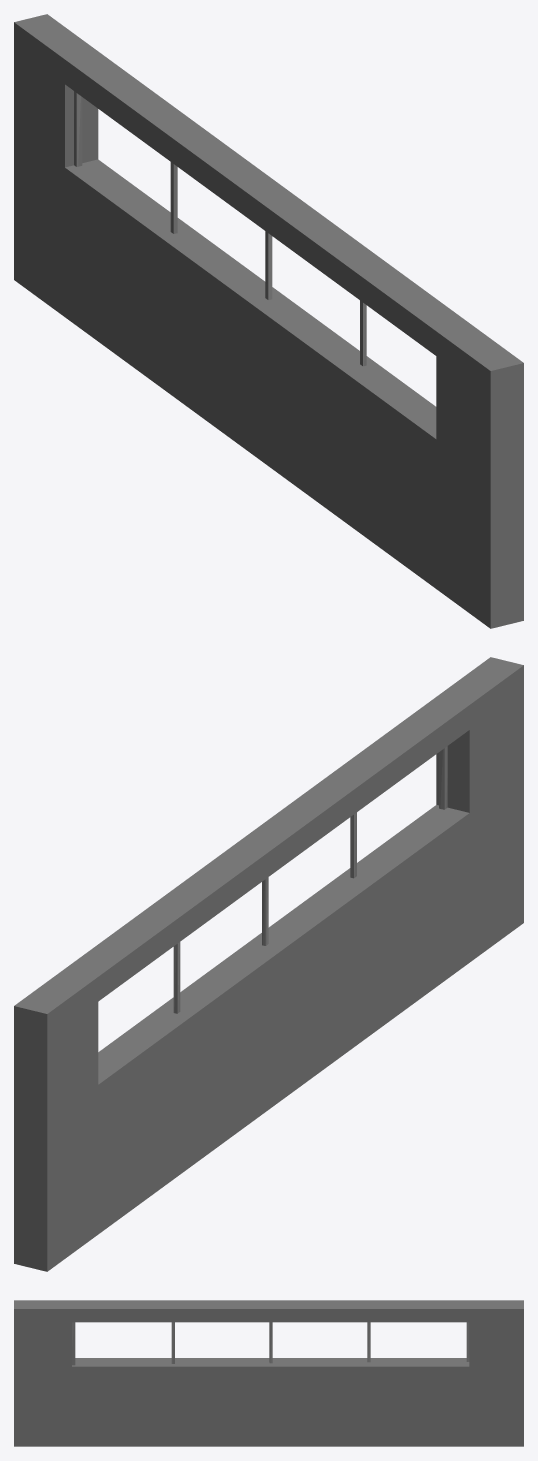
File: paredventanaBuenouvs.fbx
The picture shows the model from 3 angles, top to bottom: view 1: azimuth 30°, elevation 25°; view 2: azimuth 150°, elevation 25°; view 3: azimuth 270°, elevation 25°; orthographic projection. The views are drawn at different scales.
Parts seen in each view (by area): view 1: Box005, Railing001; view 2: Box005, Railing001; view 3: Box005, Railing001.
Part boxes in pixels (x1=…): Box005: x1=14, y1=14, x2=523, y2=628; Railing001: x1=74, y1=91, x2=366, y2=366; Box005: x1=14, y1=657, x2=523, y2=1271; Railing001: x1=173, y1=746, x2=447, y2=1013; Box005: x1=14, y1=1300, x2=523, y2=1446; Railing001: x1=72, y1=1322, x2=469, y2=1365.
Size of the model in its own units: 57.05 by 422 by 1414.
